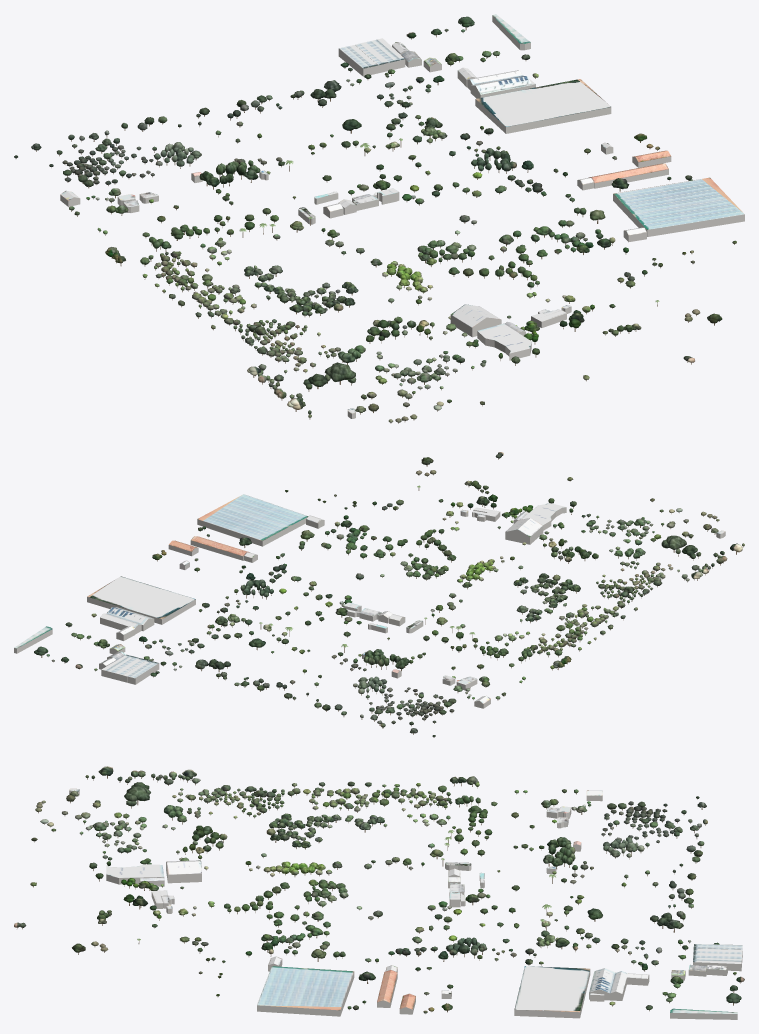
Rendered from farm.glb.
3 views of the same model, one above another, from view 1: azimuth 30°, elevation 25°; view 2: azimuth 150°, elevation 25°; view 3: azimuth 270°, elevation 25° (orthographic). The views are drawn at different scales.
Size of the model in its own units: 396 by 14.38 by 500.
Materials: 2 (1 with a texture image).
